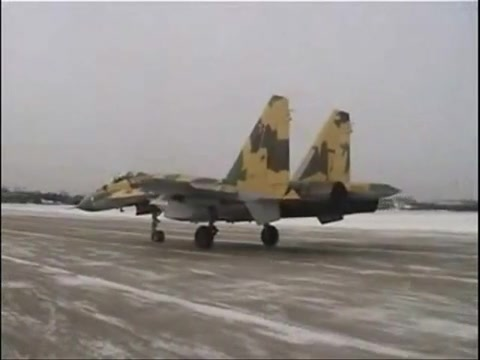aeroplane: (75, 95, 402, 249)
